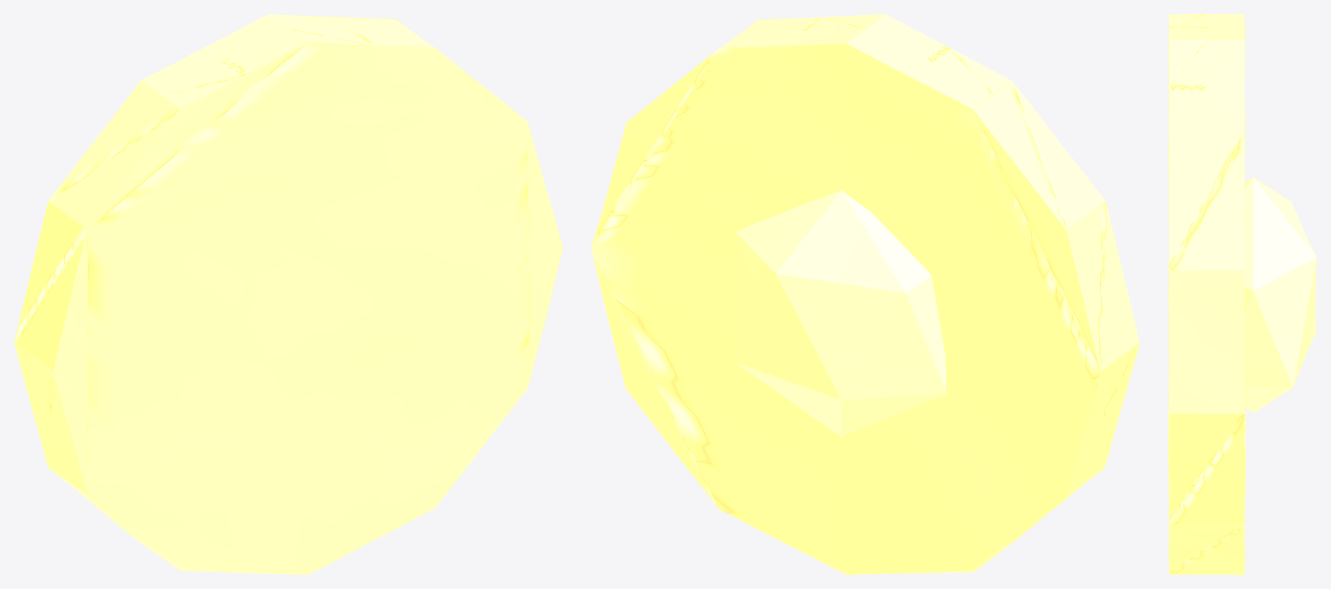
Rendered from coin.glb.
3 renders of one model, left to right at view 1: azimuth 30°, elevation 25°; view 2: azimuth 150°, elevation 25°; view 3: azimuth 270°, elevation 25°, orthographic. The views are drawn at different scales.
Visible parts, largest first — view 1: Coin; view 2: Coin; view 3: Coin.
Boxes of the visible parts, left/top/right/bottom form: Coin: left=14, top=14, right=562, bottom=574; Coin: left=591, top=14, right=1139, bottom=574; Coin: left=1168, top=14, right=1316, bottom=574.
Bounding box in the file's own units: 0.6019 × 0.6011 × 0.1588.
